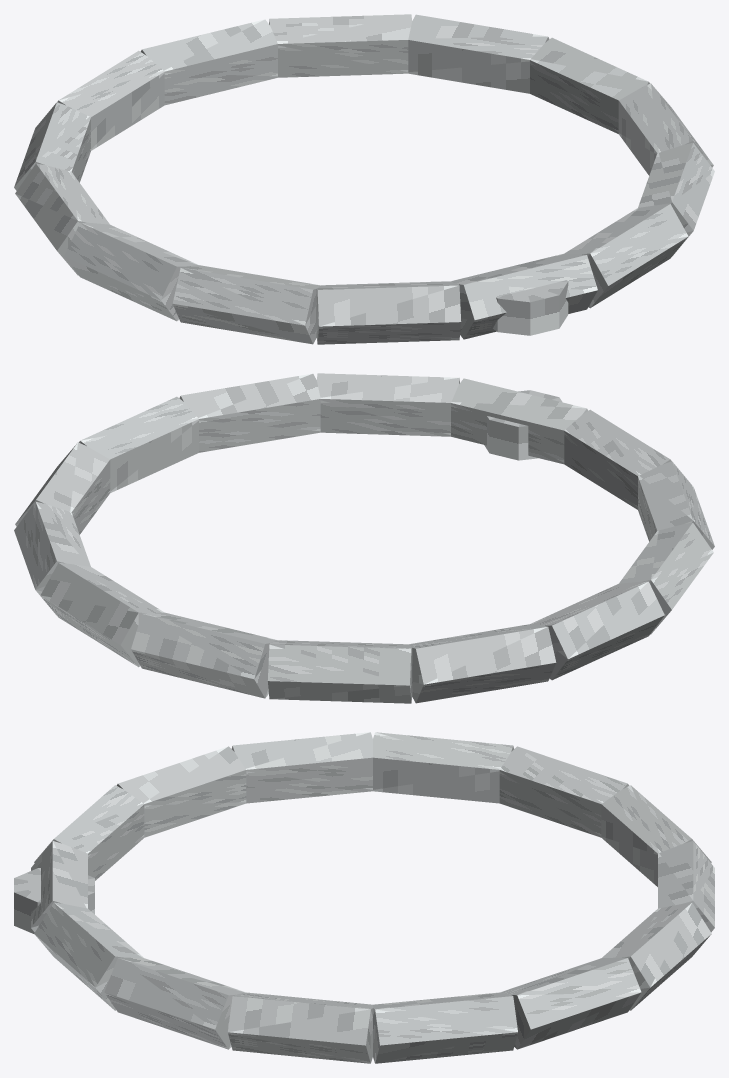
The model's file is platinum_bracelet.glb.
3 views of the same model, one above another, from view 1: azimuth 30°, elevation 25°; view 2: azimuth 150°, elevation 25°; view 3: azimuth 270°, elevation 25° (orthographic).
Parts seen in each view (by area): view 1: block_bracelet band4, block_bracelet band5, block_bracelet band11, block_bracelet band12, block_bracelet band10, block_bracelet band6, block_bracelet band13, block_bracelet band2, block_bracelet band3, block_bracelet band9, block_bracelet band7, block_bracelet band1 (+3 smaller); view 2: block_bracelet band9, block_bracelet band8, block_bracelet band10, block_bracelet band2, block_bracelet band1, block_bracelet band7, block_bracelet band0, block_bracelet band11, block_bracelet band3, block_bracelet band4, block_bracelet band6, block_bracelet band12 (+3 smaller); view 3: block_bracelet band0, block_bracelet band13, block_bracelet band6, block_bracelet band7, block_bracelet band1, block_bracelet band12, block_bracelet band8, block_bracelet band5, block_bracelet band11, block_bracelet band2, block_bracelet band9, block_bracelet band4 (+3 smaller).
Boxes of the visible parts, x1,y1,x2,y2 form: block_bracelet band4: (316,281,461,344); block_bracelet band5: (172,265,320,344); block_bracelet band11: (269,14,411,77); block_bracelet band12: (408,14,549,93); block_bracelet band10: (140,19,277,105); block_bracelet band6: (64,222,198,321); block_bracelet band13: (530,37,649,133); block_bracelet band2: (564,204,688,308); block_bracelet band3: (451,253,597,339); block_bracelet band9: (57,50,164,150); block_bracelet band7: (15,163,109,275); block_bracelet band1: (638,143,714,255); block_bracelet band9: (267,640,412,703); block_bracelet band8: (408,624,556,703); block_bracelet band10: (131,612,277,698); block_bracelet band2: (317,373,459,436); block_bracelet band1: (179,373,320,452); block_bracelet band7: (530,581,664,680); block_bracelet band0: (79,396,198,492); block_bracelet band11: (40,563,164,667); block_bracelet band3: (451,378,588,464); block_bracelet band4: (564,409,671,509); block_bracelet band6: (619,522,713,634); block_bracelet band12: (14,502,90,614); block_bracelet band0: (227,992,372,1063); block_bracelet band13: (373,992,517,1063); block_bracelet band6: (231,732,372,803); block_bracelet band7: (373,732,513,803); block_bracelet band1: (104,957,245,1049); block_bracelet band12: (500,957,641,1049); block_bracelet band8: (499,746,629,837); block_bracelet band5: (116,746,246,837); block_bracelet band11: (601,902,711,1010); block_bracelet band2: (34,902,143,1010); block_bracelet band9: (601,785,711,886); block_bracelet band4: (34,785,144,880).
Size of the model in its own units: 0.0583 by 0.00501 by 0.0585.
1 material, 1 textured.
